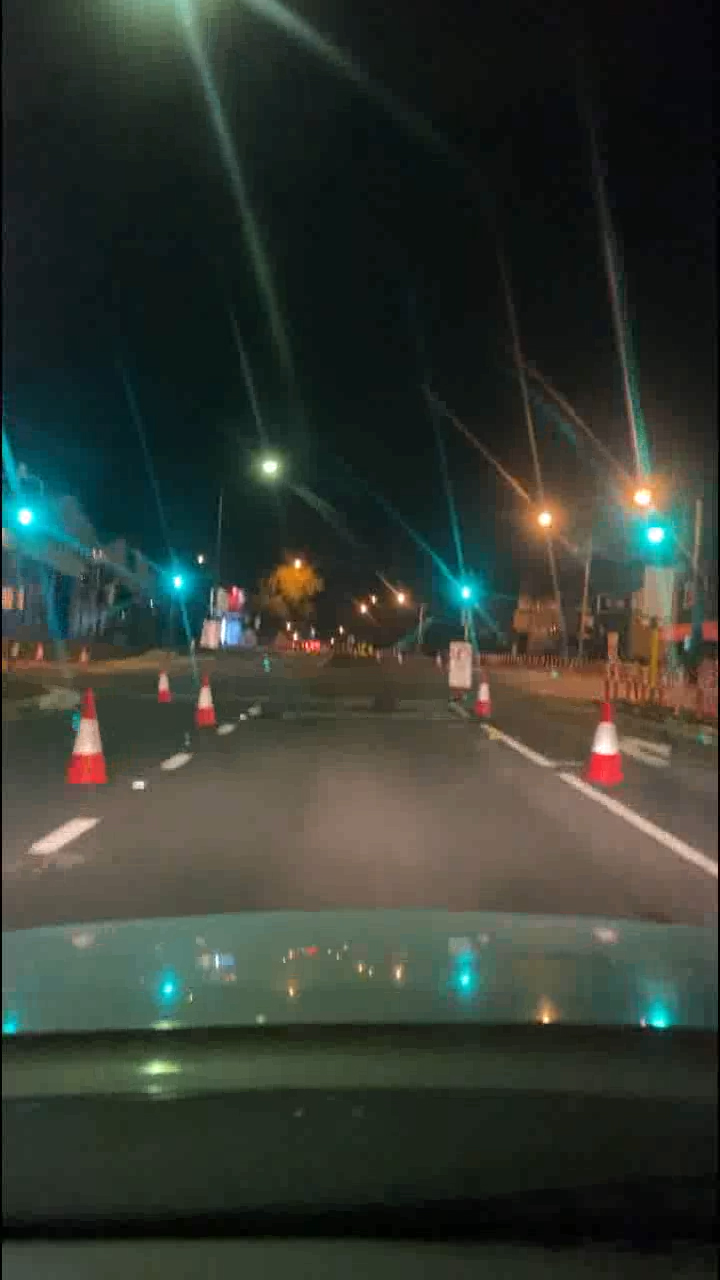road cone: (52, 680, 124, 792), (579, 695, 629, 794), (187, 671, 224, 734), (139, 657, 176, 720), (466, 666, 503, 729)
